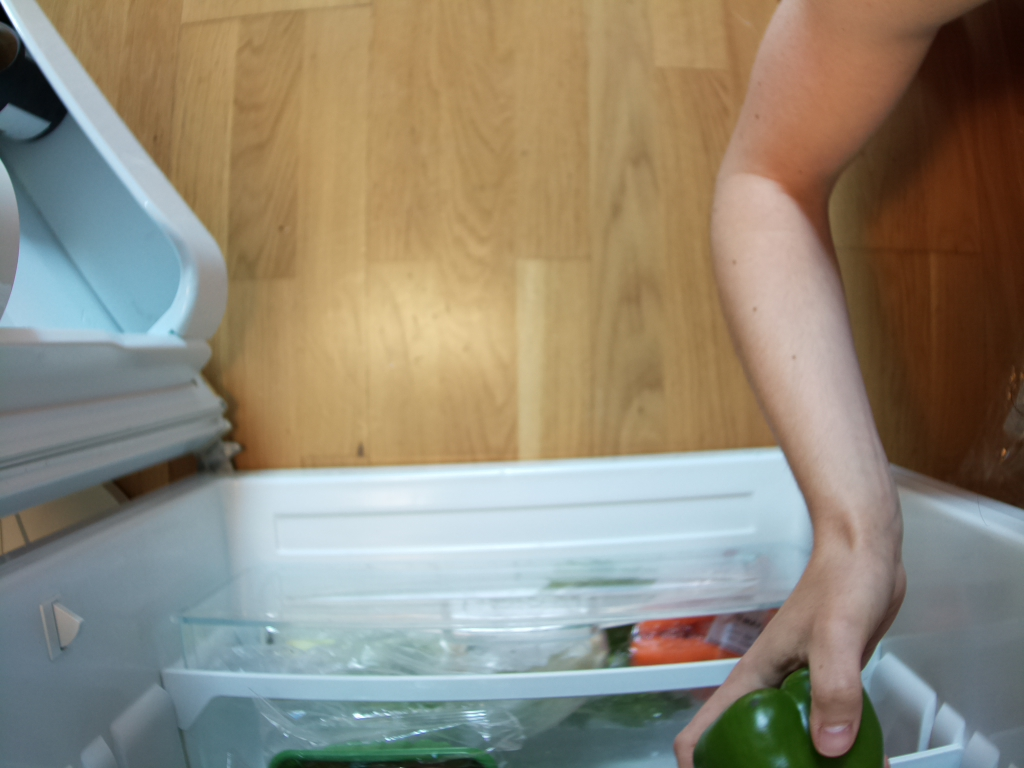pepper: (683, 669, 881, 768)
